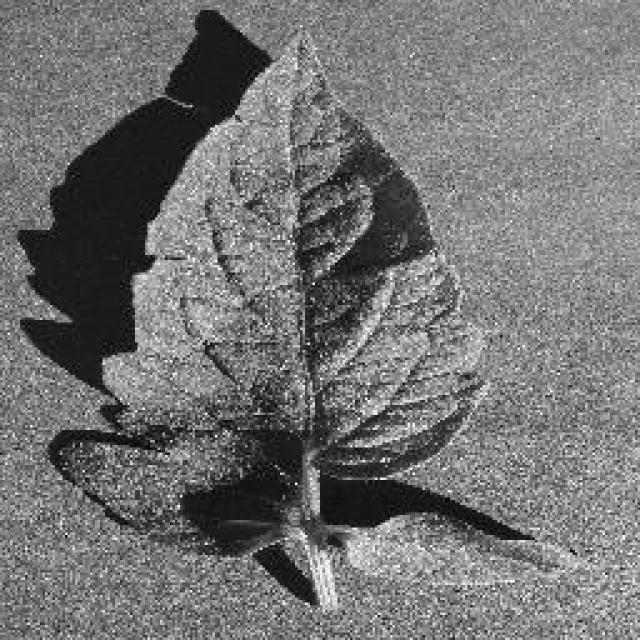Healthy: (38, 18, 598, 628)
